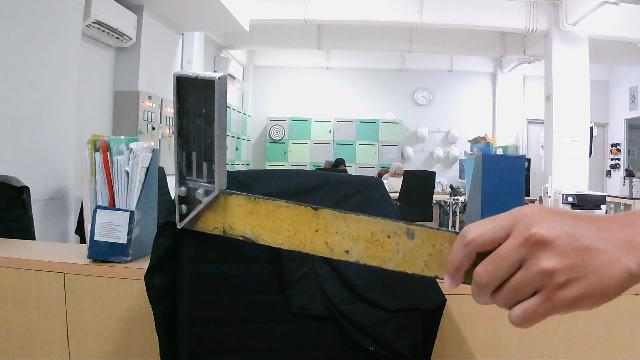penggaris_siku: (167, 69, 518, 293)
